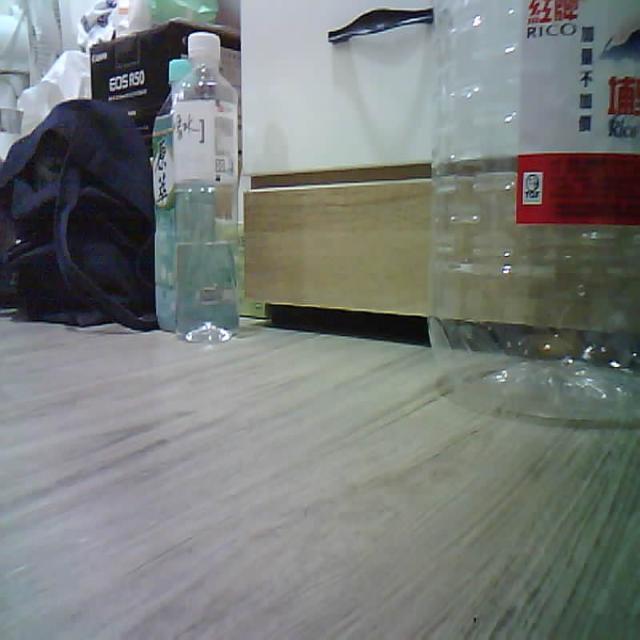bottle: (429, 0, 639, 419), (174, 32, 238, 341), (154, 58, 191, 332)
